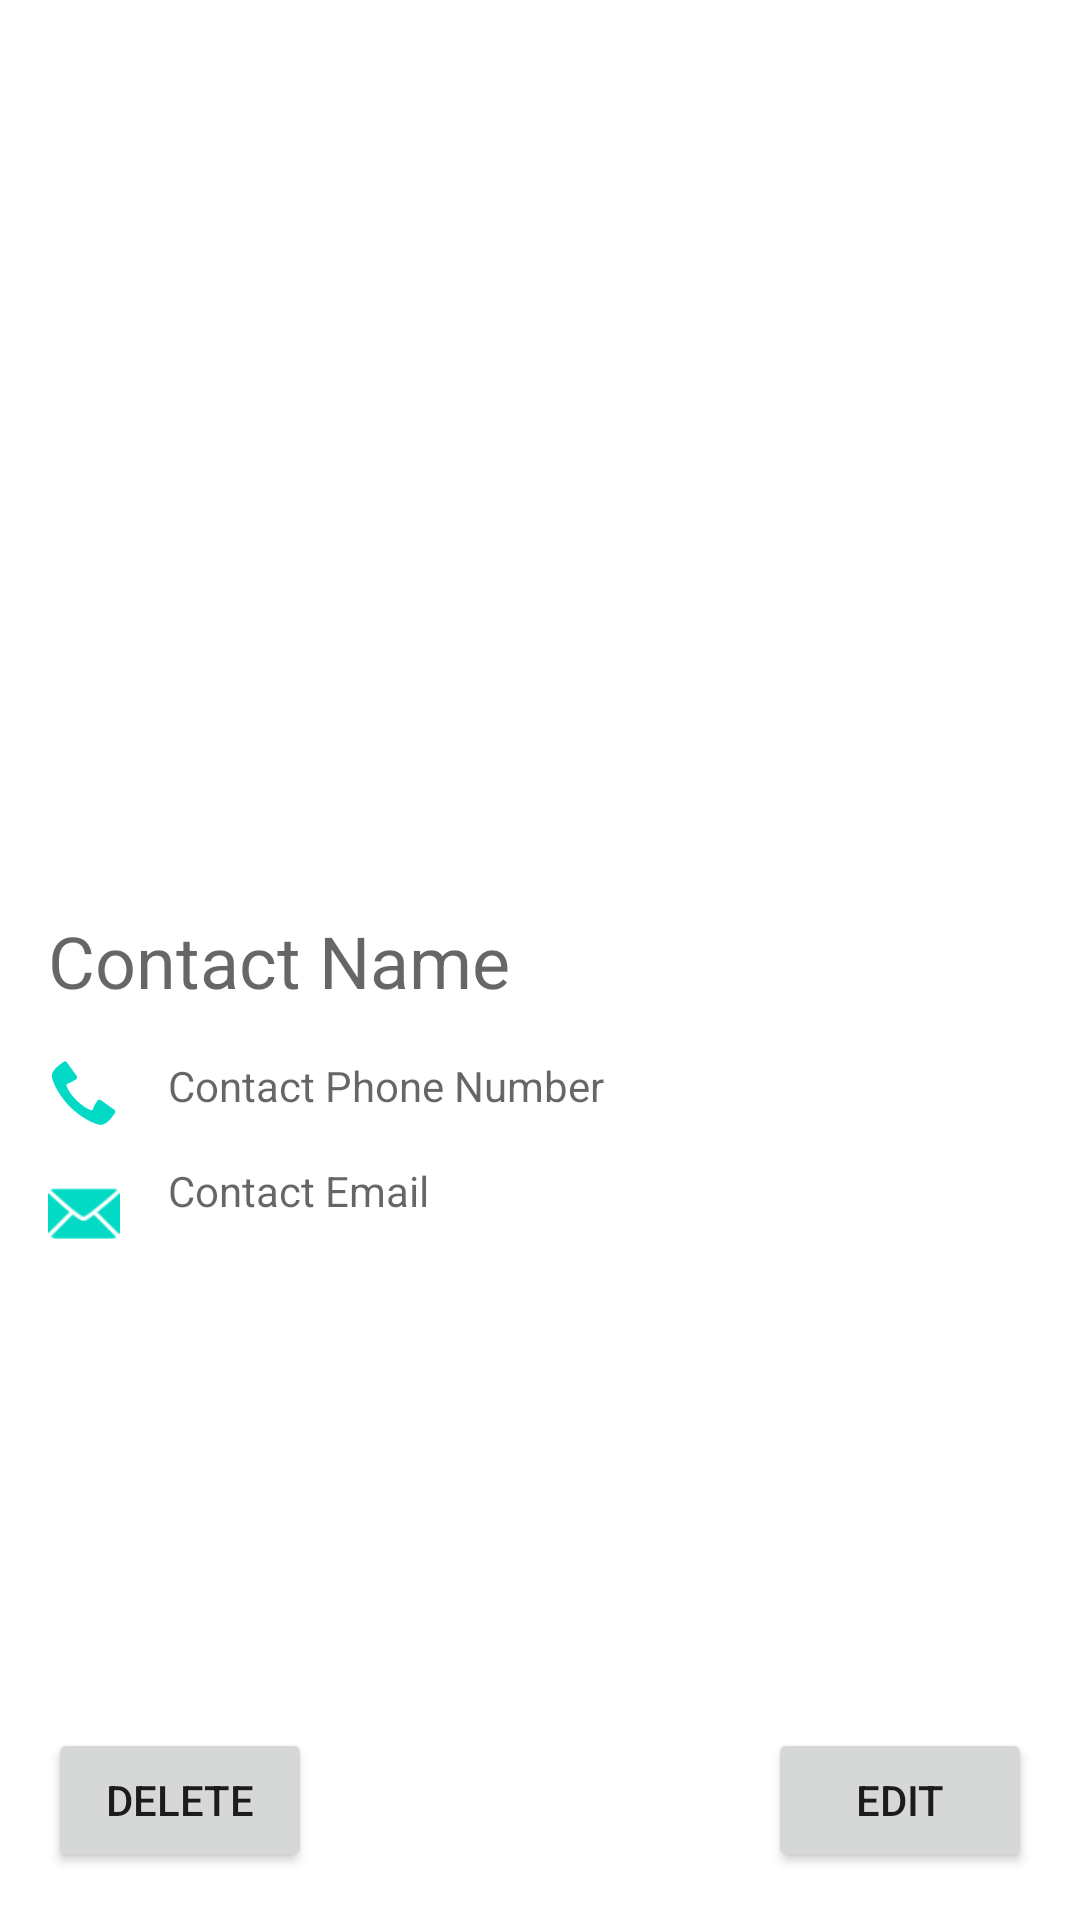

Icon bounding boxes for this 1080*1920 phone screenshot, format (x1, y1, x2, y2):
phone call: (52, 1061, 116, 1125)
